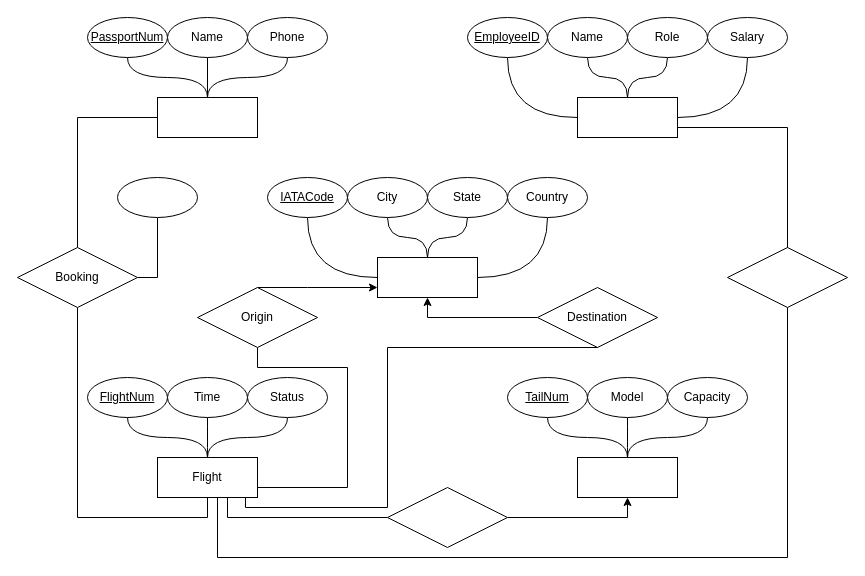
Image size: 865x576. Some labels were removed from this diagram. Each missing label, with the box of its shape:
Aircraft: (576, 456, 678, 498)
Airport: (376, 256, 478, 298)
Assigned: (386, 486, 508, 548)
Employee: (576, 96, 678, 138)
Passenger: (156, 96, 258, 138)
SeatNum: (116, 176, 198, 218)
Staffing: (726, 246, 848, 308)
